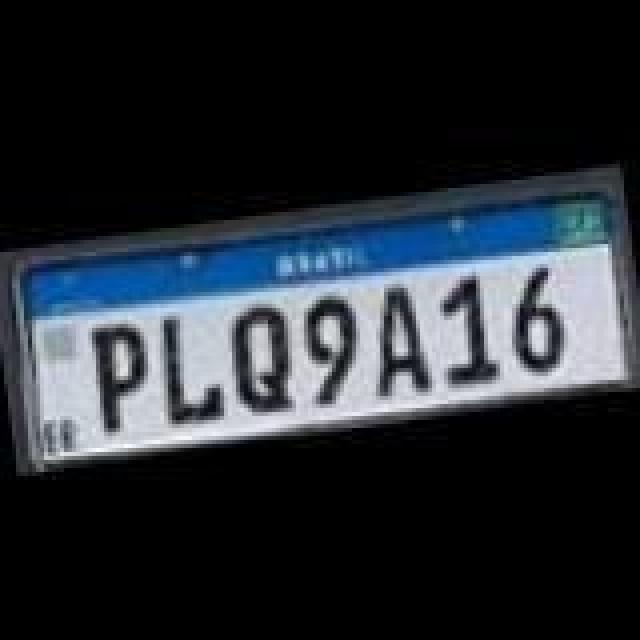1: (430, 266, 506, 390)
6: (502, 258, 578, 382)
9: (298, 292, 374, 412)
A: (360, 282, 440, 406)
L: (158, 308, 234, 428)
P: (90, 318, 158, 434)
Q: (226, 302, 302, 418)
